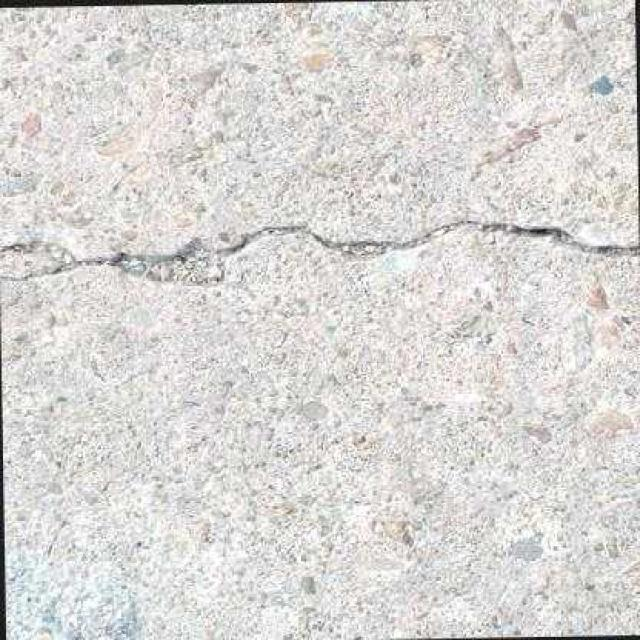D00: (0, 218, 639, 280)
